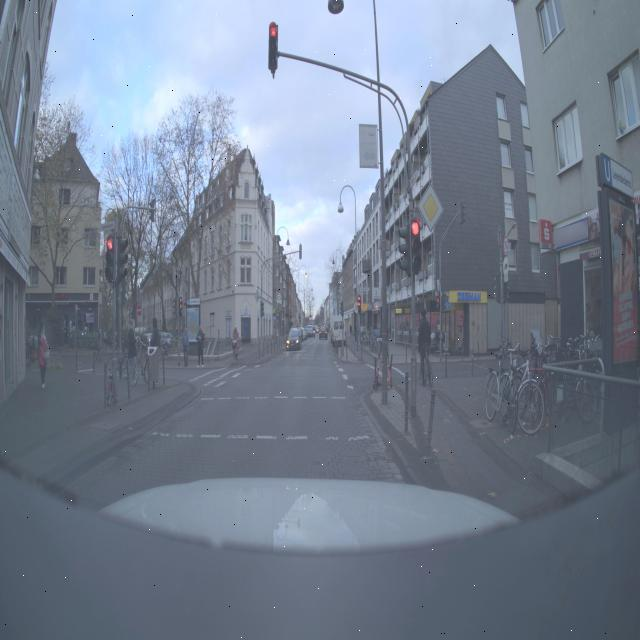red_light: (396, 206, 442, 283), (86, 222, 130, 294), (256, 18, 294, 92)
